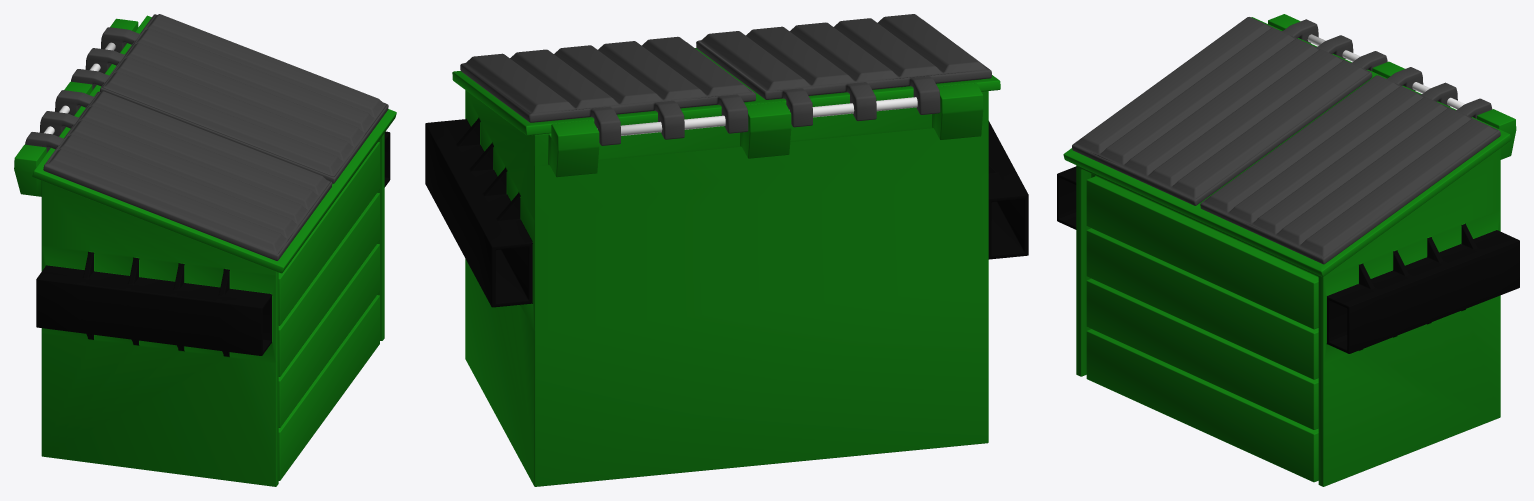
Rendered from bin.glb.
3 views of the same model, side by side, from view 1: azimuth 30°, elevation 25°; view 2: azimuth 150°, elevation 25°; view 3: azimuth 270°, elevation 25° (orthographic). The views are drawn at different scales.
Parts seen in each view (by area): view 1: Cube.004_Material.002_0; view 2: Cube.004_Material.002_0; view 3: Cube.004_Material.002_0.
Boxes of the visible parts, bbox=[...] form: Cube.004_Material.002_0: bbox=[14, 14, 396, 486]; Cube.004_Material.002_0: bbox=[425, 14, 1028, 486]; Cube.004_Material.002_0: bbox=[1057, 14, 1519, 486].
Size of the model in its own units: 2.25 by 1.54 by 2.2.
